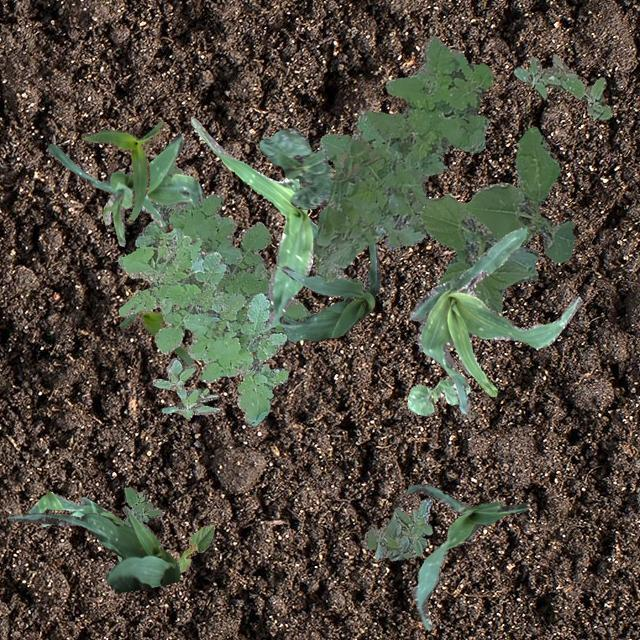crop: (408, 227, 580, 416), (190, 118, 316, 332), (46, 132, 204, 245), (406, 484, 528, 630), (7, 504, 180, 592), (278, 242, 381, 341), (80, 120, 164, 222), (27, 490, 125, 560), (258, 126, 332, 208), (118, 308, 194, 366), (406, 378, 470, 414), (173, 524, 213, 572)
weed: (312, 35, 492, 282), (116, 226, 288, 424), (134, 157, 310, 350), (418, 125, 574, 314), (512, 54, 612, 120), (362, 498, 432, 560), (152, 356, 218, 418), (124, 486, 162, 526)
